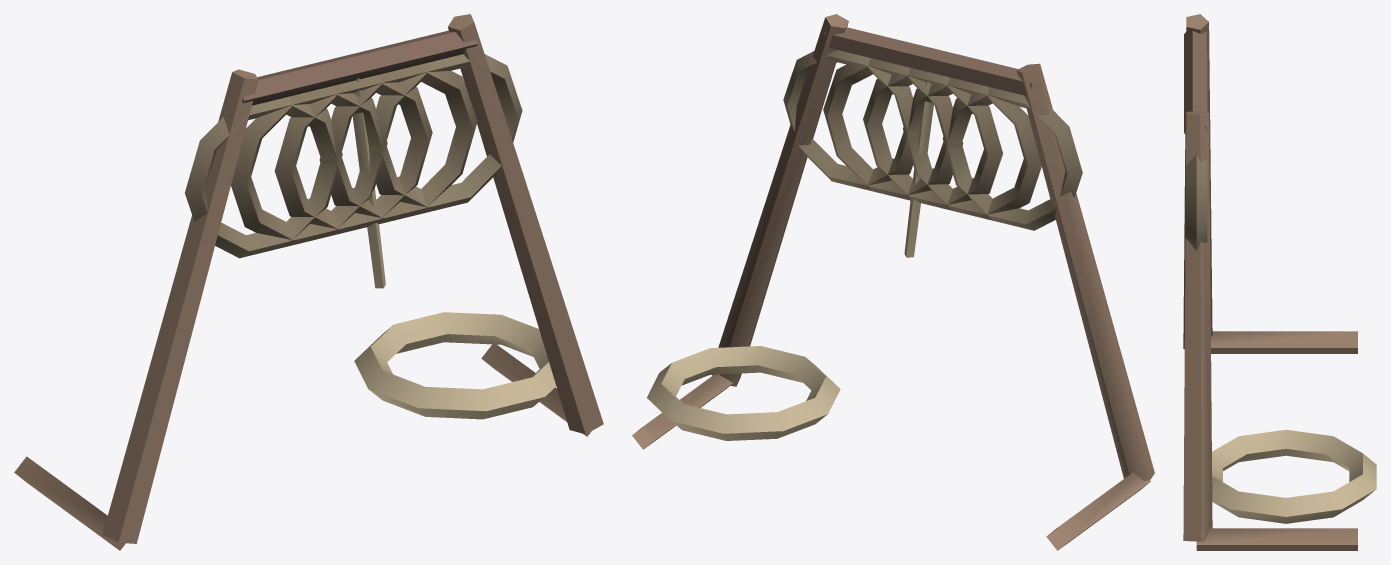
The model's file is rope_rack.glb.
3 views of the same model, side by side, from view 1: azimuth 30°, elevation 25°; view 2: azimuth 150°, elevation 25°; view 3: azimuth 270°, elevation 25° (orthographic). The views are drawn at different scales.
Visible parts, largest first — view 1: rope_rack; view 2: rope_rack; view 3: rope_rack.
Part boxes in pixels (x1=…): rope_rack: x1=14, y1=14, x2=603, y2=550; rope_rack: x1=632, y1=14, x2=1154, y2=550; rope_rack: x1=1183, y1=14, x2=1376, y2=550.
Size of the model in its own units: 2.81 by 2.39 by 1.08.
